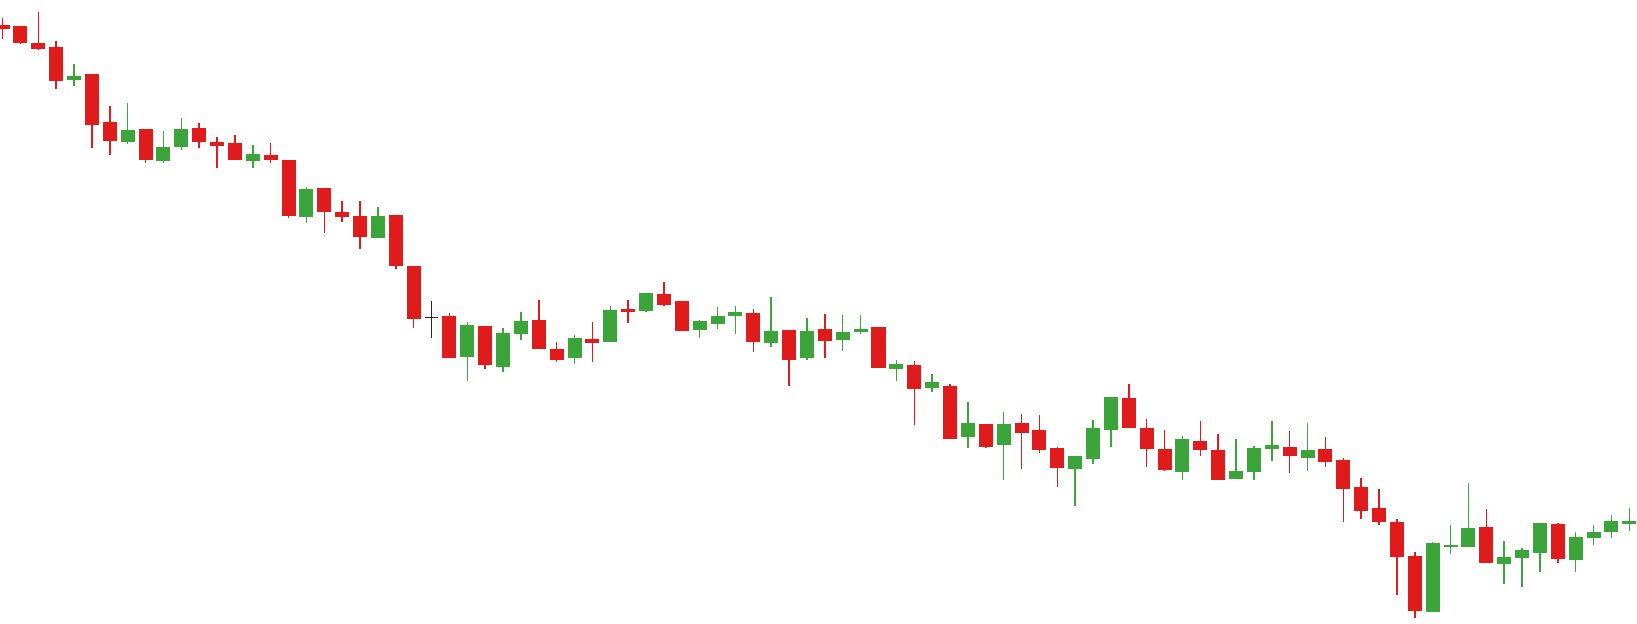sell: (995, 382, 1138, 464)
